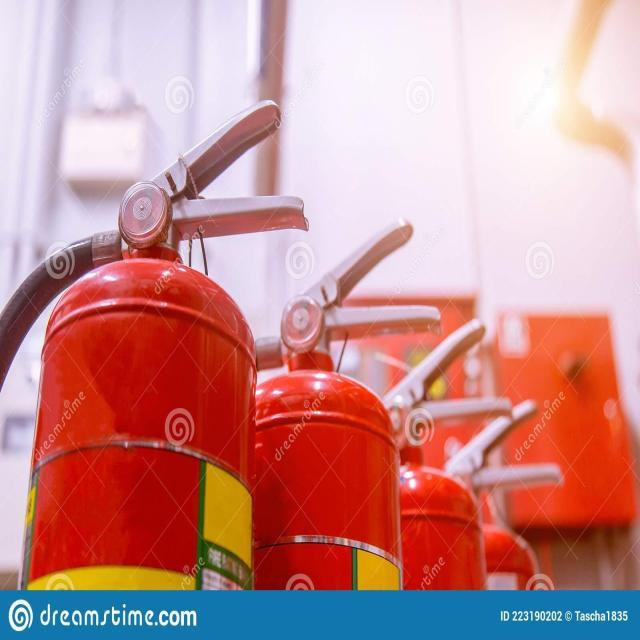fire_extinguisher: (0, 97, 314, 592), (185, 210, 448, 590), (330, 314, 516, 592), (401, 392, 568, 592)
